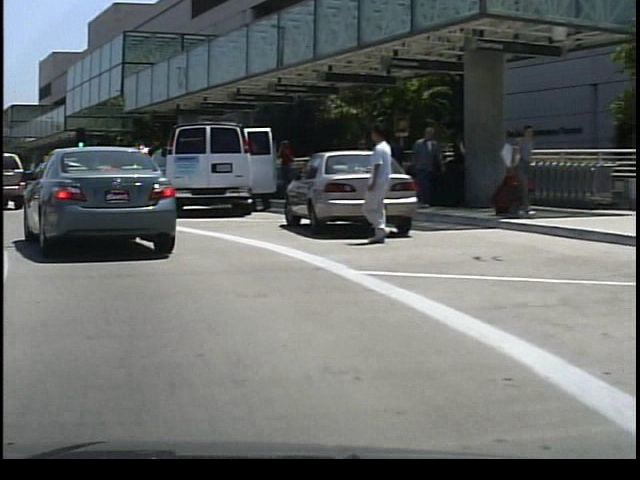person: (352, 119, 397, 245), (495, 118, 533, 218), (412, 123, 440, 208), (272, 134, 296, 202)
